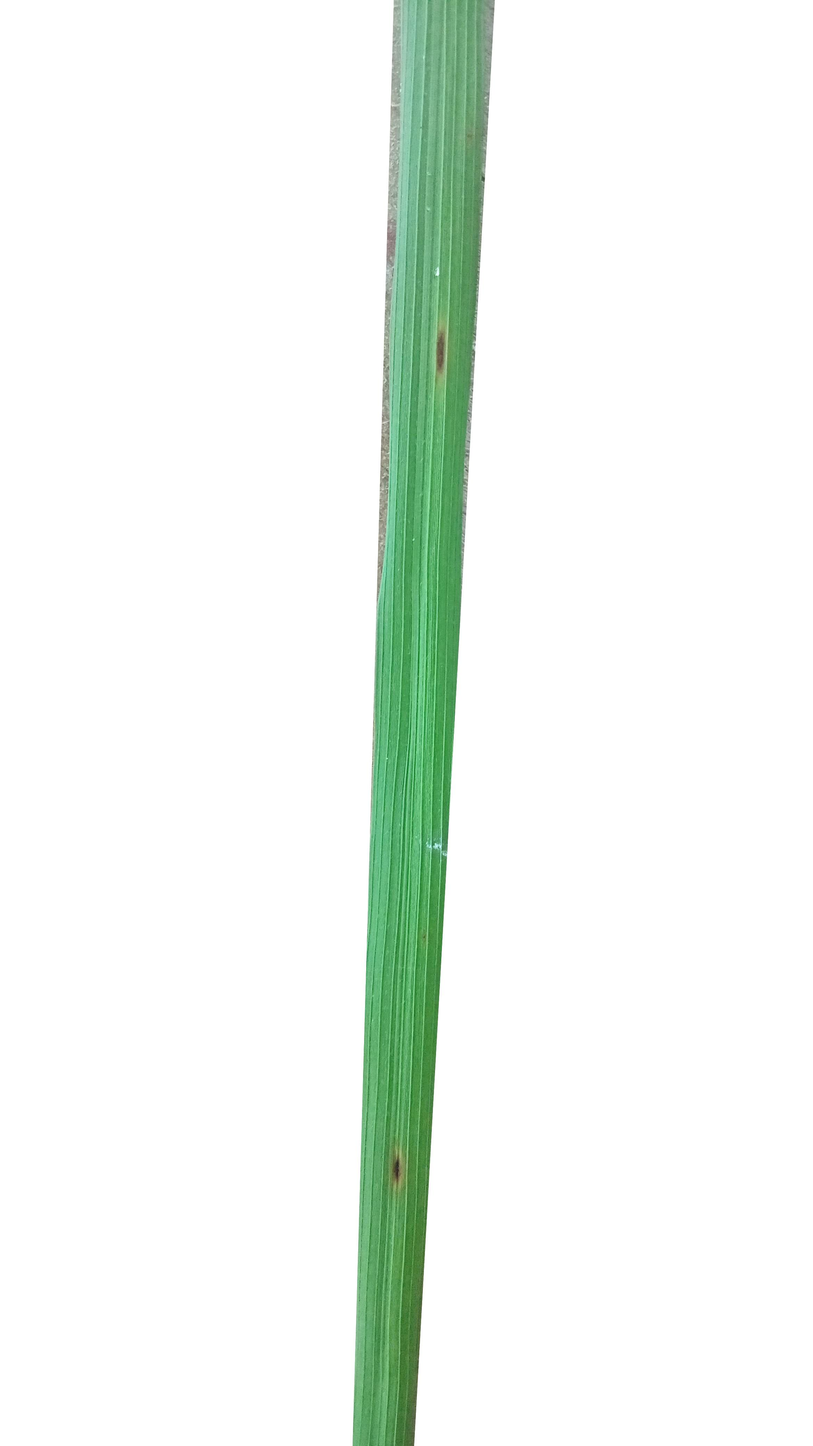Brown spot: (430, 315, 457, 398), (388, 1140, 408, 1202)
